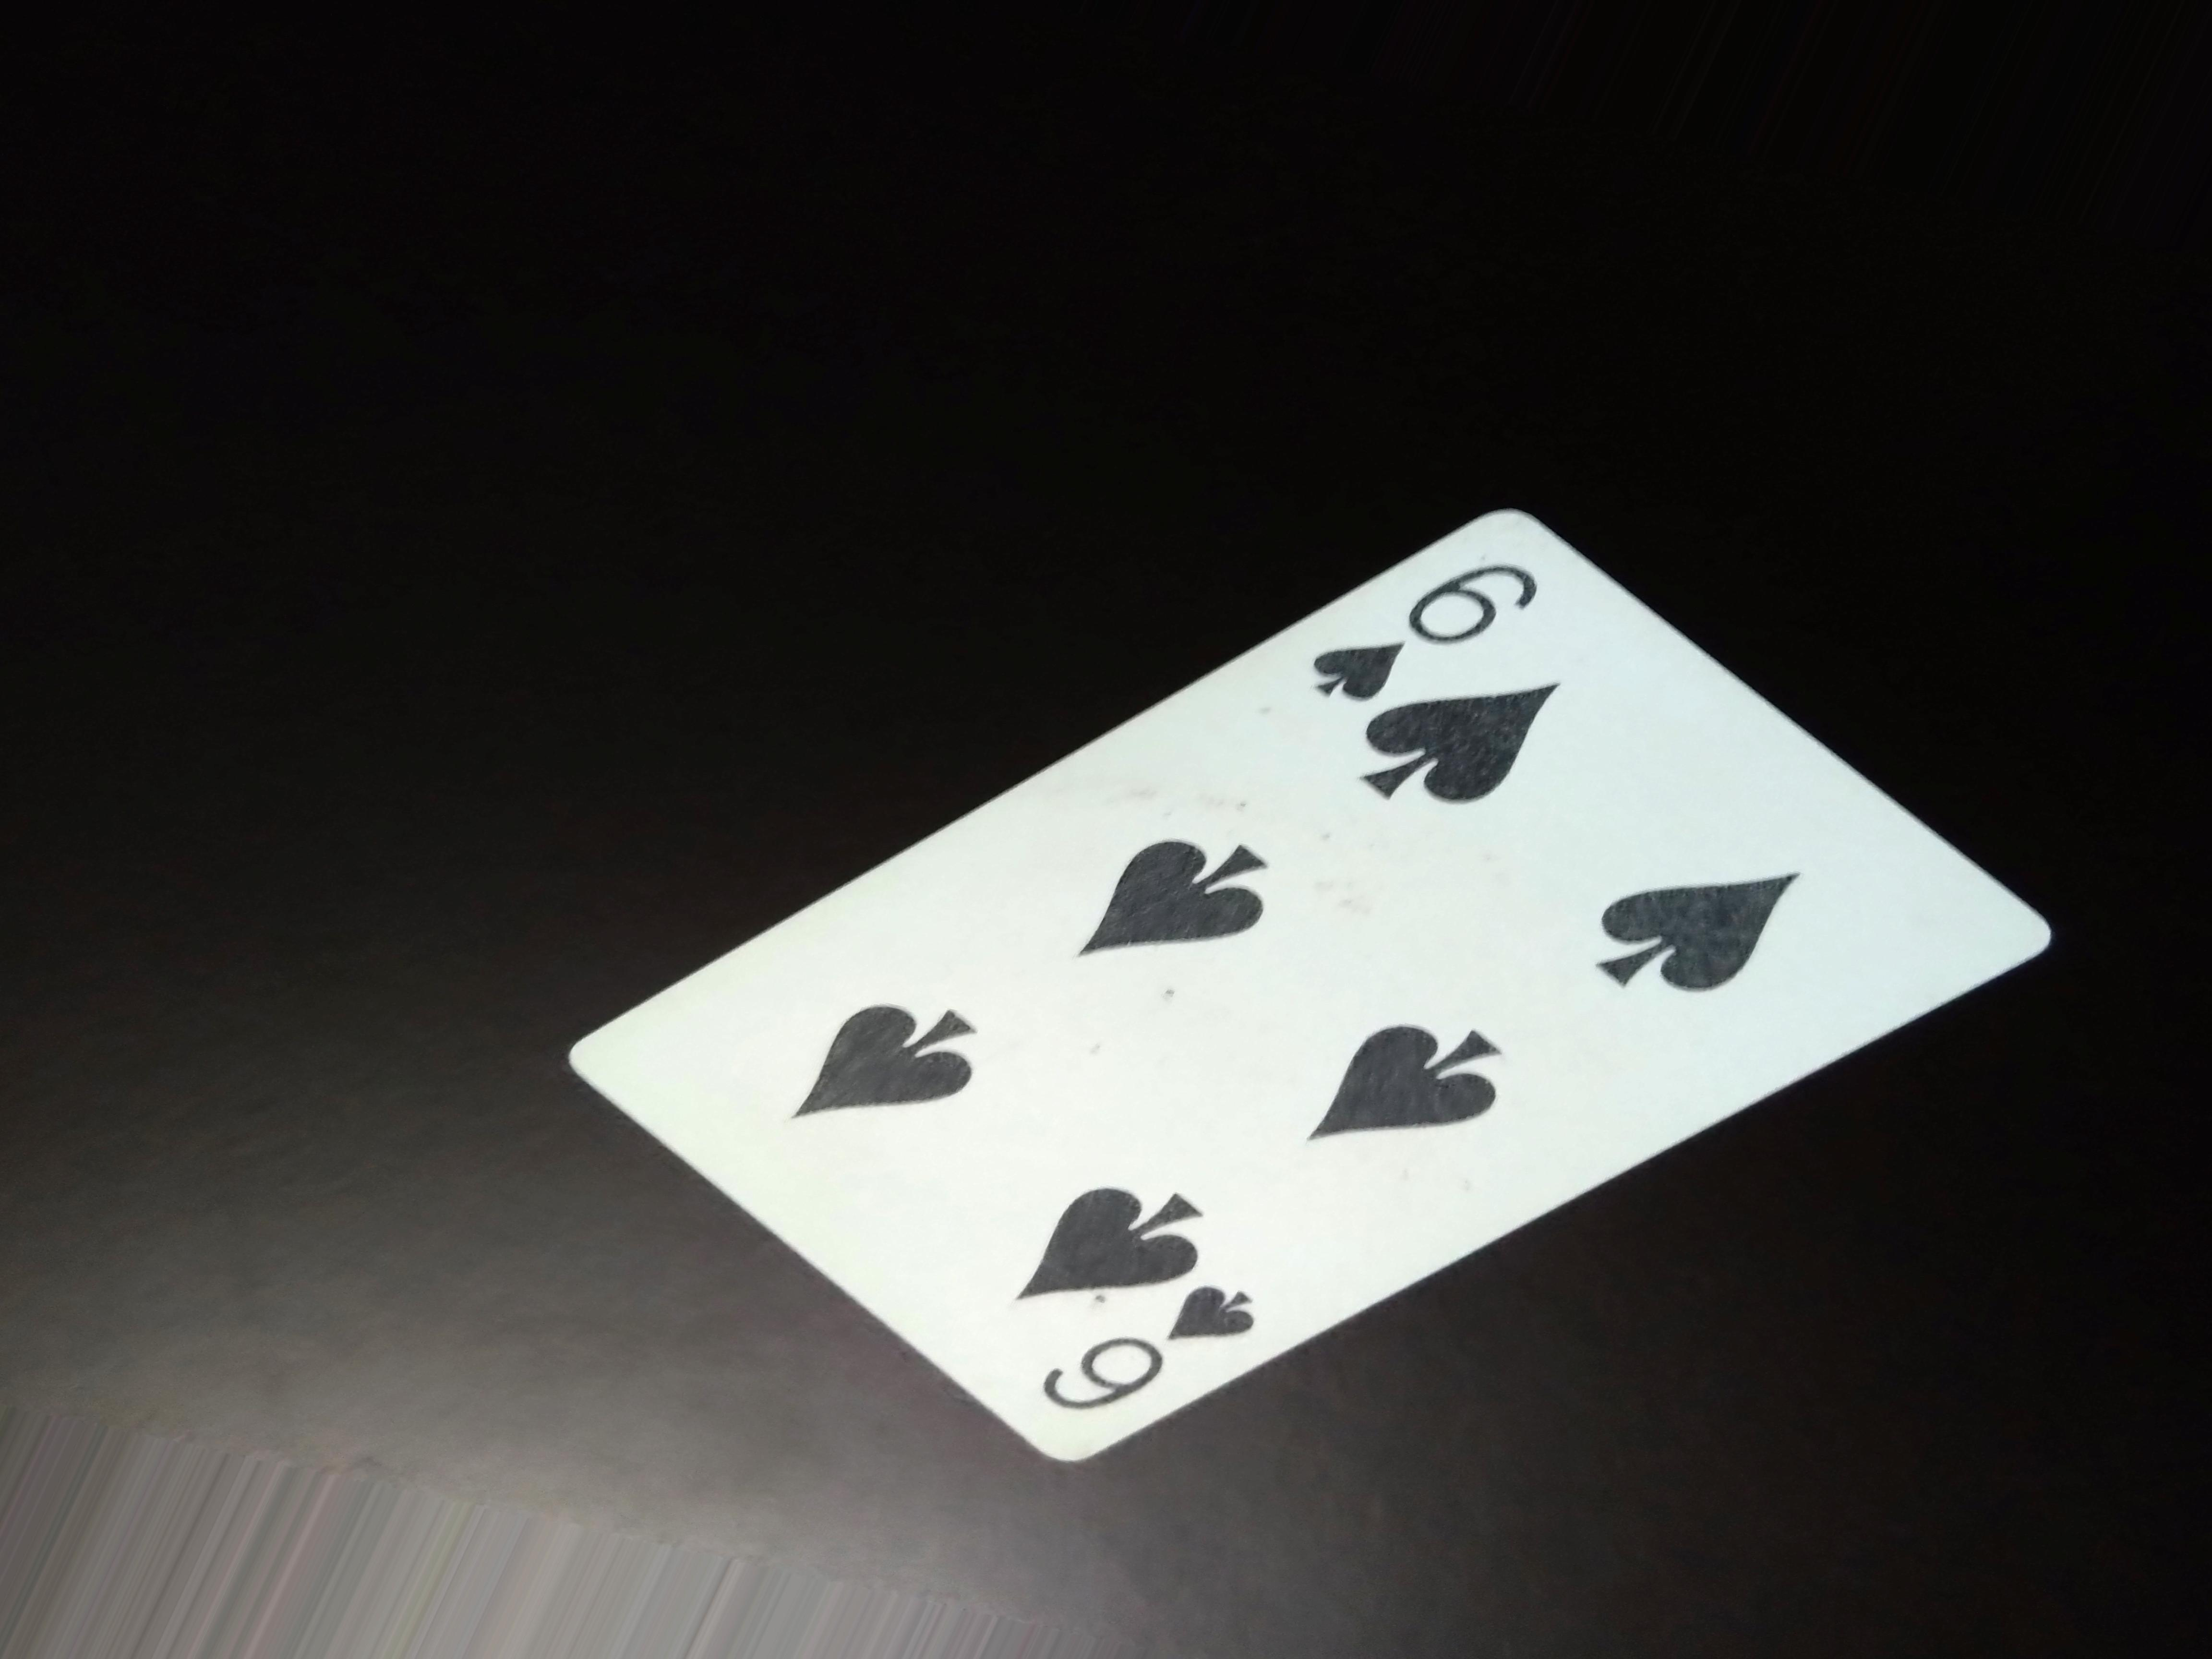6S: (1296, 526, 1564, 732)
